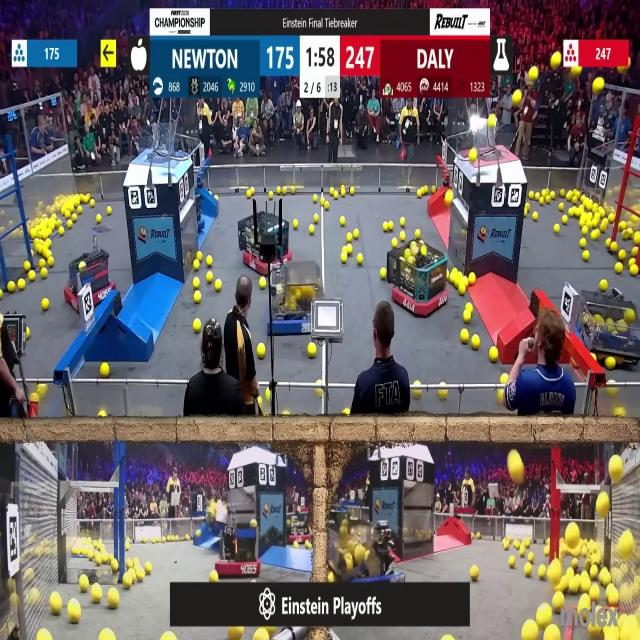ball_airborne: (509, 452, 524, 482), (621, 531, 634, 557), (611, 456, 623, 482), (596, 493, 609, 515), (566, 523, 579, 544), (592, 77, 602, 94), (513, 91, 523, 106), (552, 54, 562, 68), (529, 67, 538, 81), (468, 148, 476, 160), (489, 114, 496, 126)
ball_ground: (536, 604, 550, 626), (68, 601, 80, 623), (527, 623, 540, 640), (52, 594, 63, 614), (546, 626, 561, 640), (108, 590, 119, 609), (554, 594, 564, 612), (607, 589, 617, 607), (92, 587, 102, 604), (600, 570, 610, 585), (79, 577, 88, 593), (590, 588, 600, 602), (568, 581, 578, 595), (122, 573, 131, 588), (101, 630, 114, 640), (9, 594, 18, 608), (101, 362, 109, 377), (469, 565, 477, 580), (38, 630, 50, 640), (490, 348, 498, 362), (256, 344, 264, 358), (446, 191, 454, 205), (210, 570, 219, 582), (626, 310, 635, 322), (471, 336, 478, 351), (309, 344, 316, 359), (192, 319, 200, 332), (606, 356, 614, 369), (41, 299, 49, 312), (524, 563, 532, 576), (538, 565, 545, 579), (630, 266, 638, 278), (206, 272, 214, 284), (137, 570, 145, 582), (616, 409, 626, 418), (380, 269, 388, 280), (440, 389, 448, 400), (193, 290, 200, 302), (214, 280, 221, 292), (463, 312, 470, 324), (111, 560, 118, 572), (461, 332, 468, 344), (145, 562, 152, 574), (497, 390, 504, 402), (468, 274, 475, 286), (388, 220, 396, 230), (634, 233, 640, 246), (41, 269, 48, 280), (600, 280, 607, 291), (192, 278, 199, 289), (7, 282, 14, 293), (356, 253, 363, 264), (600, 220, 607, 231), (42, 248, 50, 257), (610, 242, 617, 252), (620, 250, 627, 260), (192, 262, 199, 272), (507, 557, 514, 567), (592, 231, 599, 241), (29, 272, 36, 282), (127, 559, 134, 569), (164, 633, 174, 640), (259, 278, 265, 289), (617, 264, 623, 275), (584, 250, 590, 261), (328, 572, 334, 583), (341, 253, 348, 262), (18, 280, 24, 290), (207, 256, 213, 266), (415, 231, 421, 241), (459, 284, 465, 294), (46, 257, 52, 267), (500, 375, 506, 385), (528, 553, 534, 563), (578, 216, 584, 226), (555, 223, 561, 232), (341, 216, 347, 225), (579, 239, 585, 248), (399, 233, 405, 242), (562, 215, 568, 224), (25, 263, 31, 272), (353, 231, 359, 240), (40, 258, 46, 267), (292, 219, 298, 228), (383, 221, 389, 230), (502, 541, 508, 550), (544, 197, 550, 206), (604, 239, 610, 248), (66, 210, 72, 219), (251, 520, 257, 529), (608, 214, 614, 223), (535, 212, 540, 222), (348, 244, 353, 254), (267, 390, 272, 400), (543, 545, 548, 555), (292, 541, 299, 548), (632, 248, 638, 256), (344, 410, 350, 418), (68, 220, 74, 228), (123, 542, 129, 550), (100, 412, 106, 420), (583, 226, 589, 234), (568, 208, 574, 216), (524, 209, 530, 217), (630, 256, 636, 264), (194, 252, 200, 260), (77, 207, 83, 215), (551, 190, 557, 198), (572, 559, 578, 567), (276, 186, 282, 194), (335, 190, 341, 198), (328, 187, 334, 195), (350, 187, 356, 195), (621, 221, 627, 229), (314, 214, 319, 223), (348, 234, 353, 243), (97, 214, 102, 223), (392, 239, 397, 248), (26, 328, 31, 337), (0, 314, 4, 325), (269, 191, 275, 198), (465, 305, 471, 312), (246, 190, 252, 197), (560, 189, 566, 196), (306, 541, 312, 548), (534, 191, 540, 198), (194, 530, 200, 537), (60, 227, 65, 235), (529, 190, 534, 198), (322, 201, 327, 209), (0, 289, 4, 299), (46, 240, 51, 248), (521, 549, 526, 557), (257, 396, 262, 404), (423, 186, 428, 194), (282, 187, 287, 195), (400, 217, 404, 226), (308, 224, 312, 233), (445, 636, 454, 640), (107, 208, 112, 215), (539, 199, 544, 206), (560, 204, 564, 212), (314, 194, 318, 202), (92, 200, 96, 208), (418, 189, 422, 197), (431, 185, 435, 193), (516, 540, 520, 548), (72, 214, 76, 221), (473, 535, 477, 542), (185, 534, 189, 540), (152, 537, 156, 543), (215, 196, 219, 202)
goal: (467, 122, 520, 160), (129, 129, 189, 160)
robot_blue: (328, 517, 402, 600), (268, 273, 323, 335)
robot_red: (573, 292, 637, 370), (390, 239, 450, 319), (240, 213, 292, 276), (64, 250, 110, 313), (218, 518, 262, 580), (616, 543, 640, 613), (284, 513, 310, 544)
